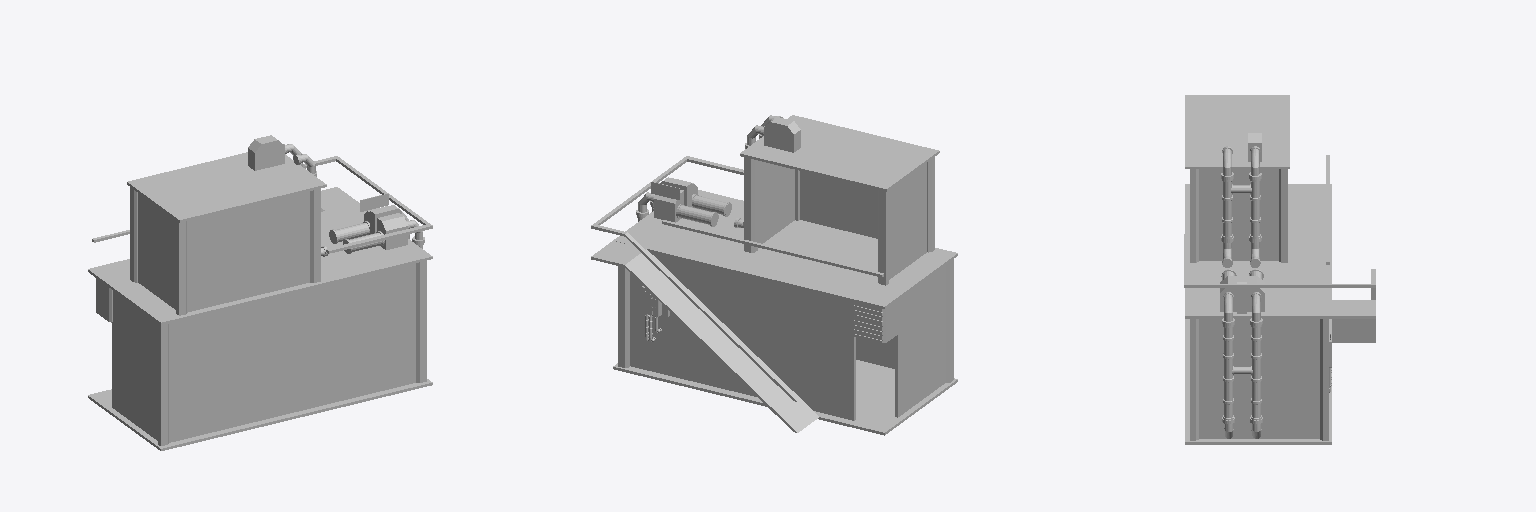
File: Slum_house_07.obj
3 renders of one model, left to right at view 1: azimuth 30°, elevation 25°; view 2: azimuth 150°, elevation 25°; view 3: azimuth 270°, elevation 25°, orthographic.
Parts seen in each view (by area): view 1: Slum_house_07; view 2: Slum_house_07; view 3: Slum_house_07.
Boxes of the visible parts, x1=… form: Slum_house_07: x1=88, y1=135, x2=432, y2=450; Slum_house_07: x1=591, y1=115, x2=957, y2=435; Slum_house_07: x1=1184, y1=95, x2=1375, y2=444.
Bounding box in the file's own units: 660 × 557 × 383.